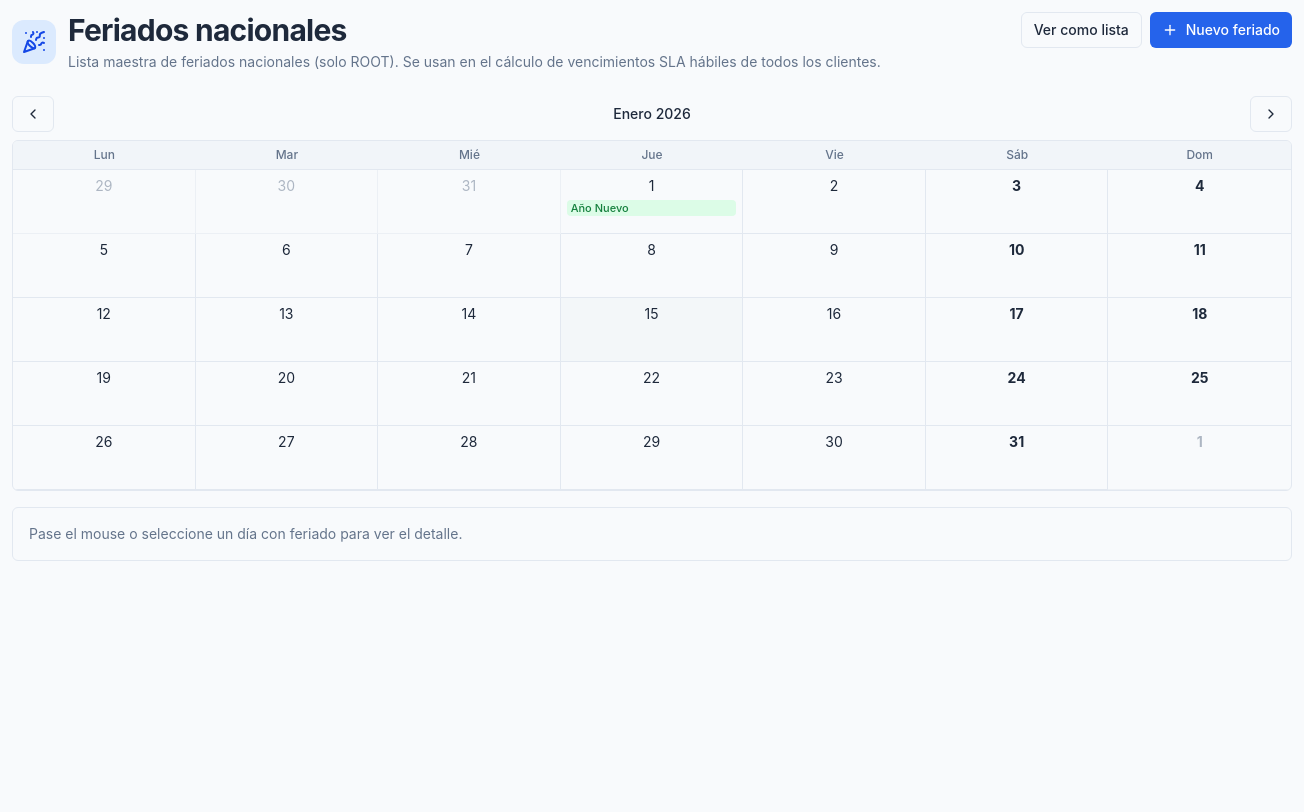
Scenario: FeriadosGlobalesAdminView — almanaque (WU3, sdd/feriados-almanaque) › el almanaque es la vista por defecto; el toggle muestra la tabla y vuelve
Expected: the table named "almanaque de feriados" is shown, top-left (12, 140), bottom-right (1292, 491)
Click the button "Ver como lista" at (1081, 30), box top-left (1021, 12), bottom-right (1142, 48)
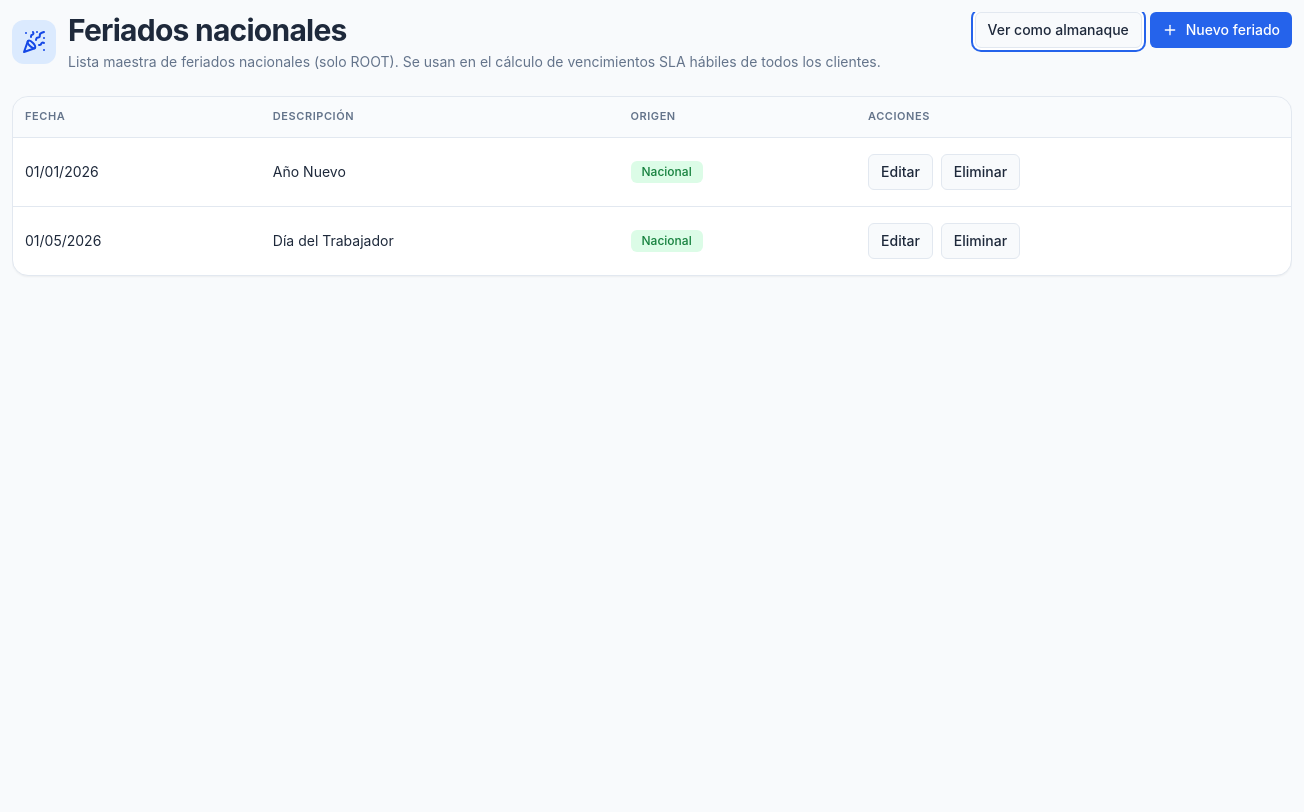
Expected: the text "Año Nuevo" is shown, top-left (261, 137), bottom-right (619, 206)
Click the button "Ver como almanaque" at (1058, 30), box top-left (974, 12), bottom-right (1142, 48)
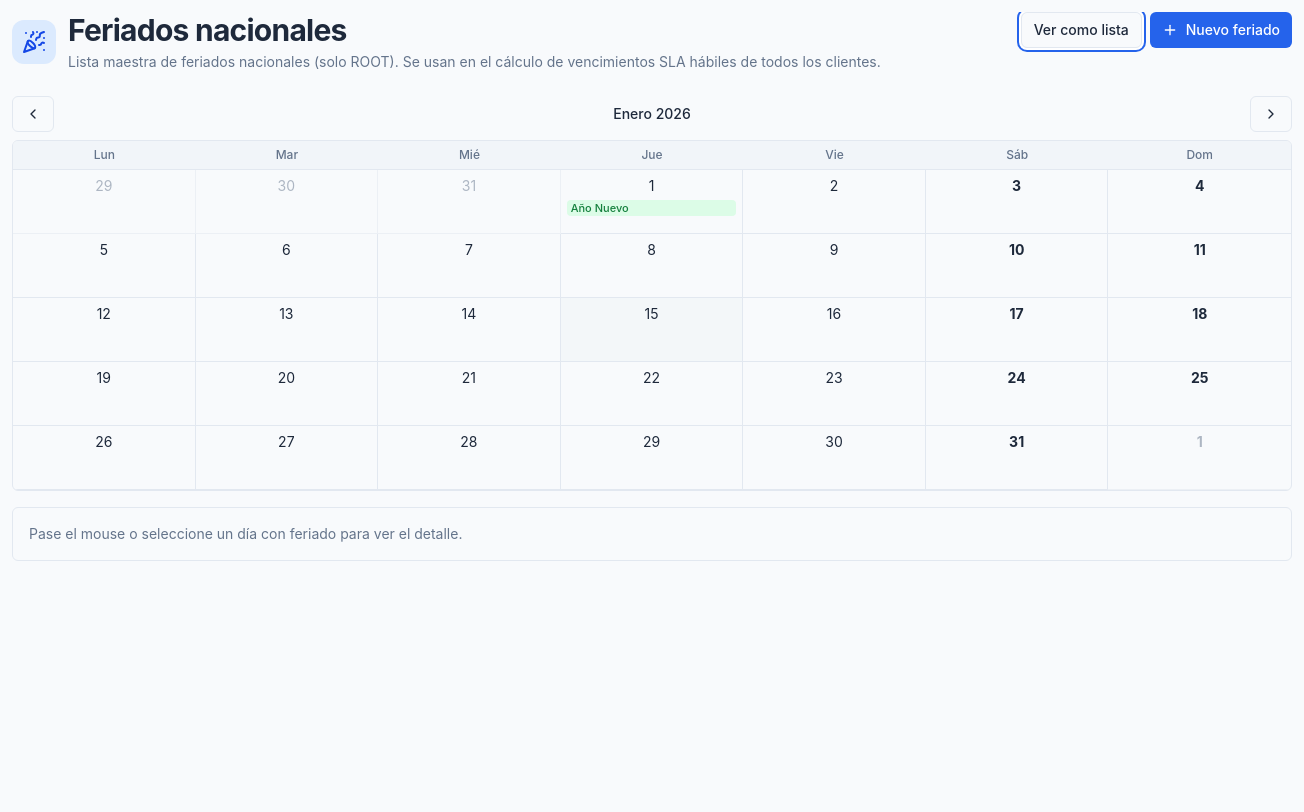
Expected: the table named "almanaque de feriados" is shown, top-left (12, 140), bottom-right (1292, 491)
